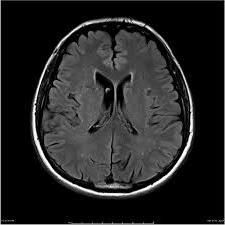Normal_Brain: (18, 4, 209, 225)
